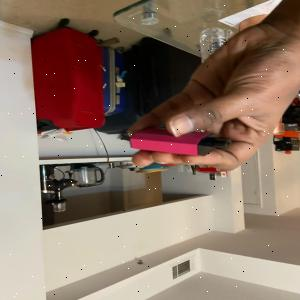Blume-E-Ciggirate: (126, 126, 233, 158)
